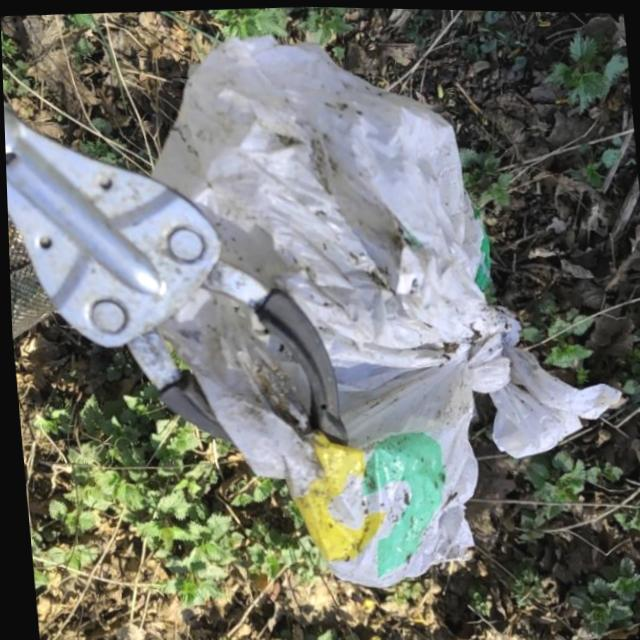Paper: (123, 9, 638, 603)
